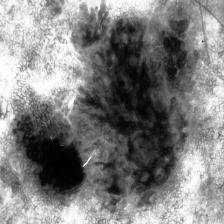Benign Marking or Mole: (12, 0, 195, 212)
